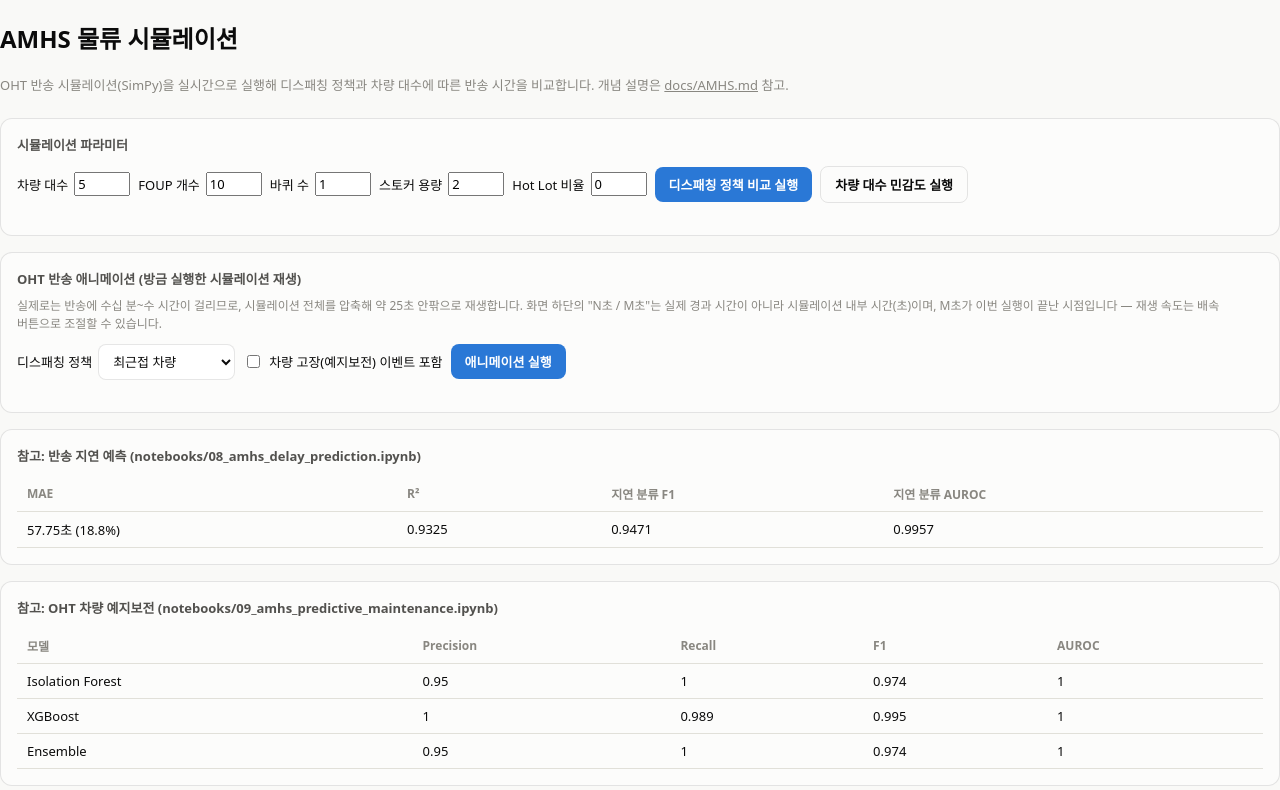
Test: Amhs page › runs the OHT replay animation on button click and renders the canvas
What coordinates should you click on to do the following:
click the button "애니메이션 실행"
I would click on:
 (508, 362)
Its box is [451,344,566,379].
(page scrolled)
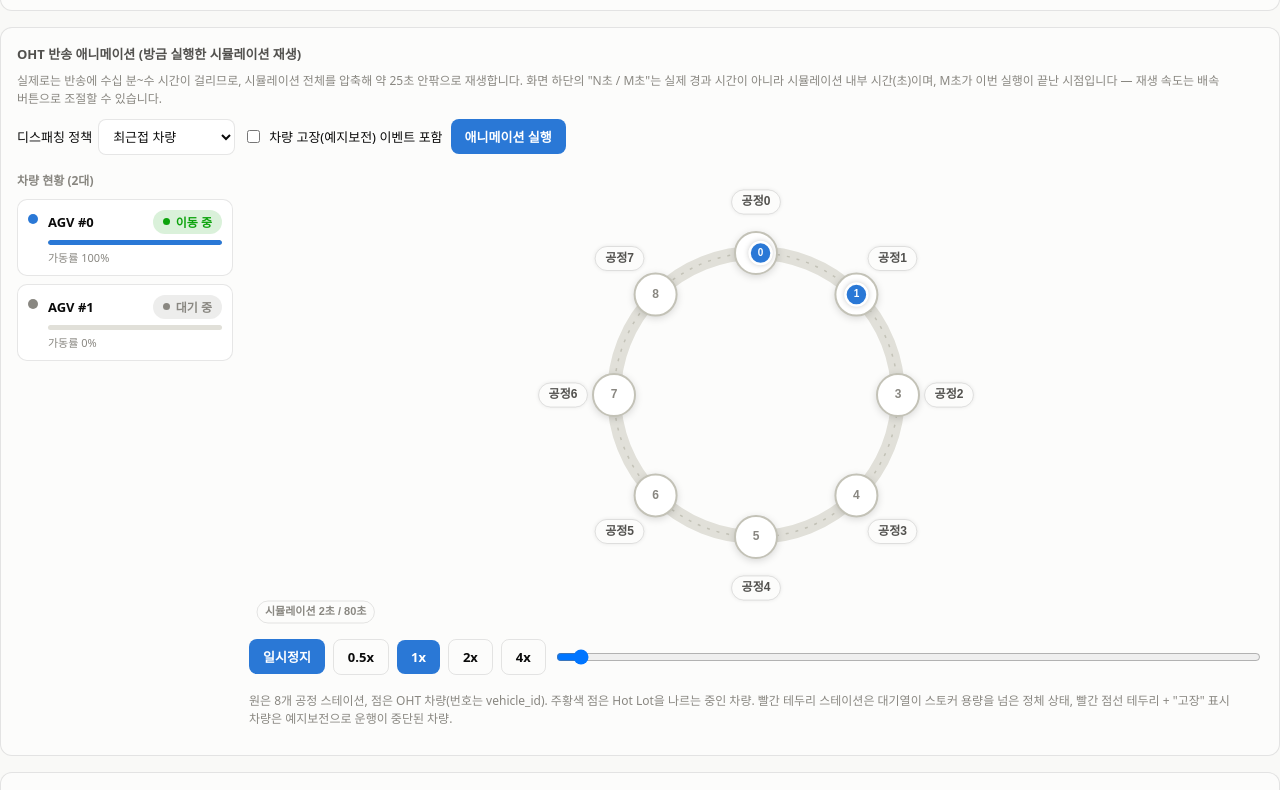
Check: the picture named "OHT 반송 애니메이션" is shown, box [249,171,1263,631]
